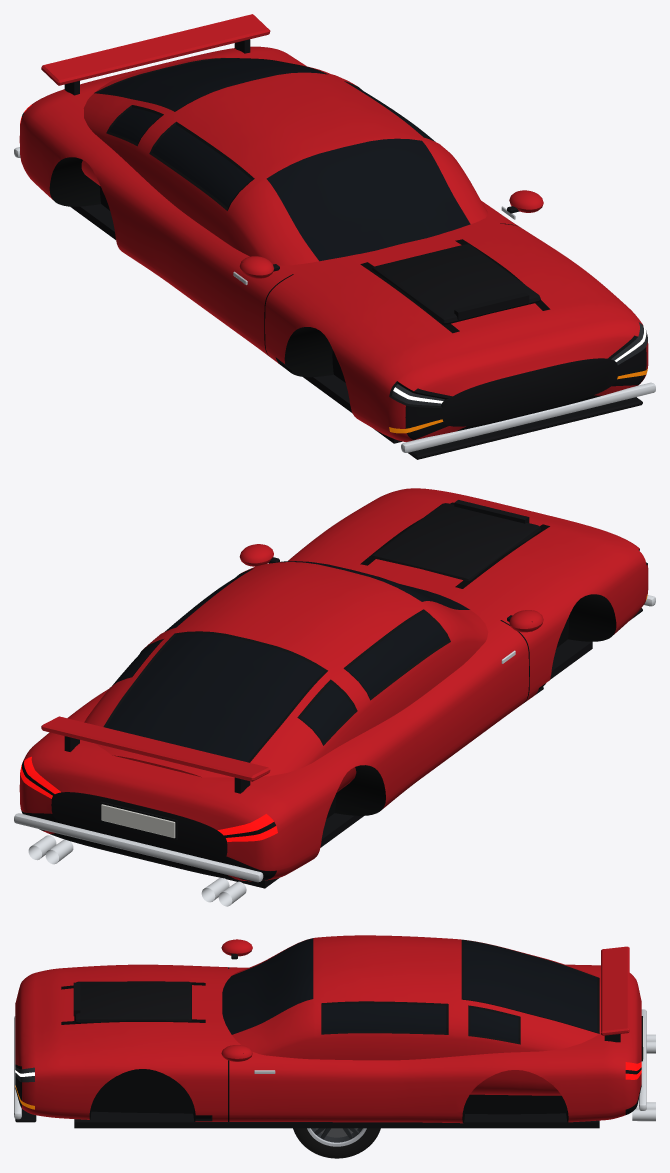
Rendered from muscle.glb.
3 renders of one model, top to bottom at view 1: azimuth 30°, elevation 25°; view 2: azimuth 150°, elevation 25°; view 3: azimuth 270°, elevation 25°, orthographic. The views are drawn at different scales.
Visible parts, largest first — view 1: shell_lod0, details, wing, splitter, mirrorL, mirrorR; view 2: shell_lod0, details, wing, plate, mirrorL, mirrorR; view 3: shell_lod0, details, wing, wheel_lod0, mirrorR, mirrorL.
Boxes of the visible parts, bbox=[...] form: shell_lod0: bbox=[19, 46, 648, 441]; details: bbox=[14, 147, 655, 452]; wing: bbox=[41, 14, 270, 95]; splitter: bbox=[408, 397, 642, 459]; mirrorL: bbox=[507, 190, 543, 213]; mirrorR: bbox=[239, 256, 279, 278]; shell_lod0: bbox=[19, 488, 648, 881]; details: bbox=[14, 500, 655, 906]; wing: bbox=[41, 716, 270, 793]; plate: bbox=[100, 801, 177, 839]; mirrorL: bbox=[239, 544, 279, 566]; mirrorR: bbox=[507, 610, 543, 632]; shell_lod0: bbox=[15, 935, 641, 1123]; details: bbox=[14, 981, 655, 1128]; wing: bbox=[601, 946, 629, 1042]; wheel_lod0: bbox=[293, 1128, 380, 1158]; mirrorR: bbox=[221, 939, 252, 959]; mirrorL: bbox=[221, 1045, 252, 1061].
Size of what is drawn, in the model's own units: 2.1 by 1.65 by 4.89.
